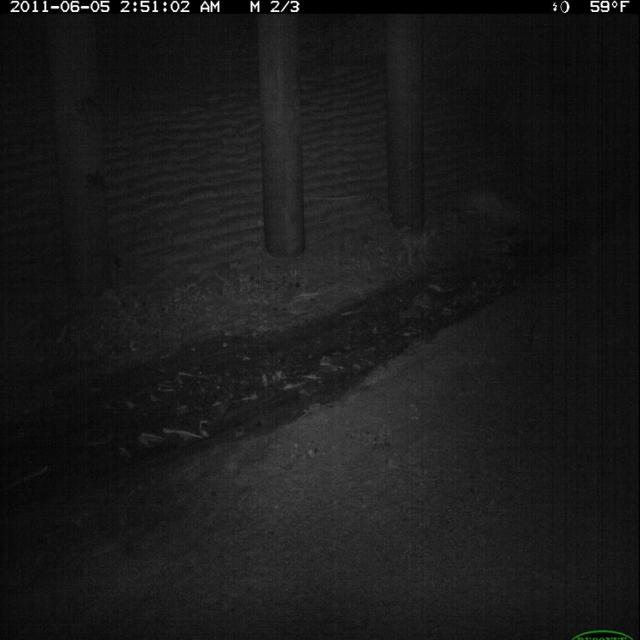bobcat: (391, 218, 440, 284)
